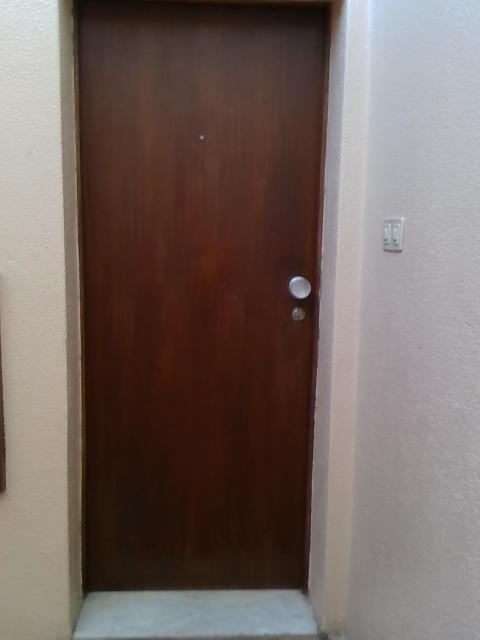door: (74, 1, 327, 589)
